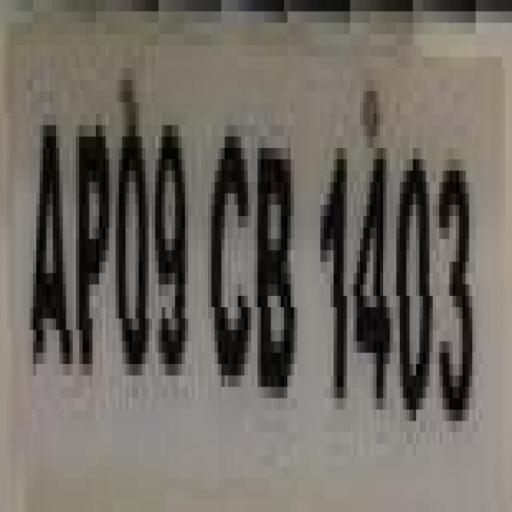number plate: (6, 0, 512, 490)
